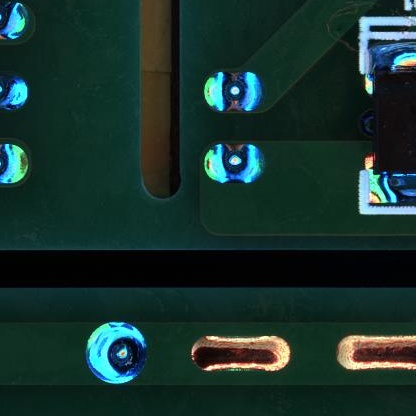spot: (85, 321, 150, 383), (203, 141, 264, 184), (203, 71, 264, 112), (1, 1, 33, 44), (1, 144, 28, 185), (1, 75, 28, 109)
